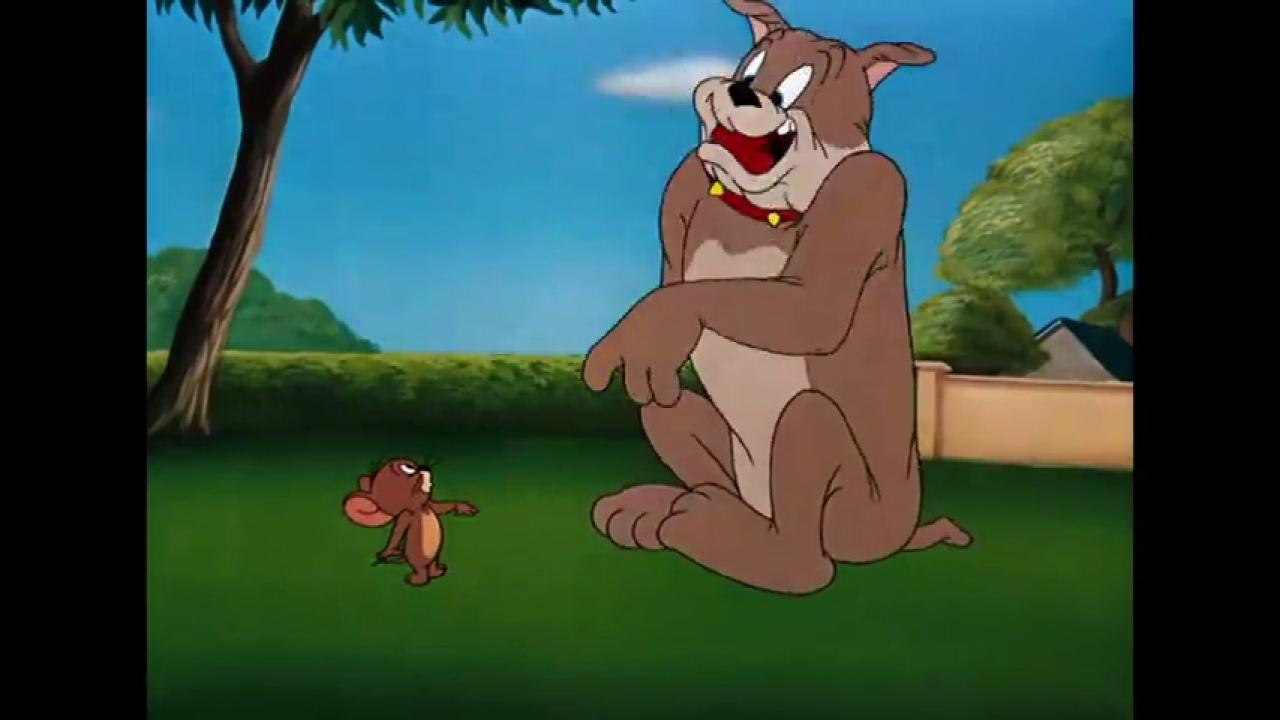Jerry: (339, 454, 483, 590)
